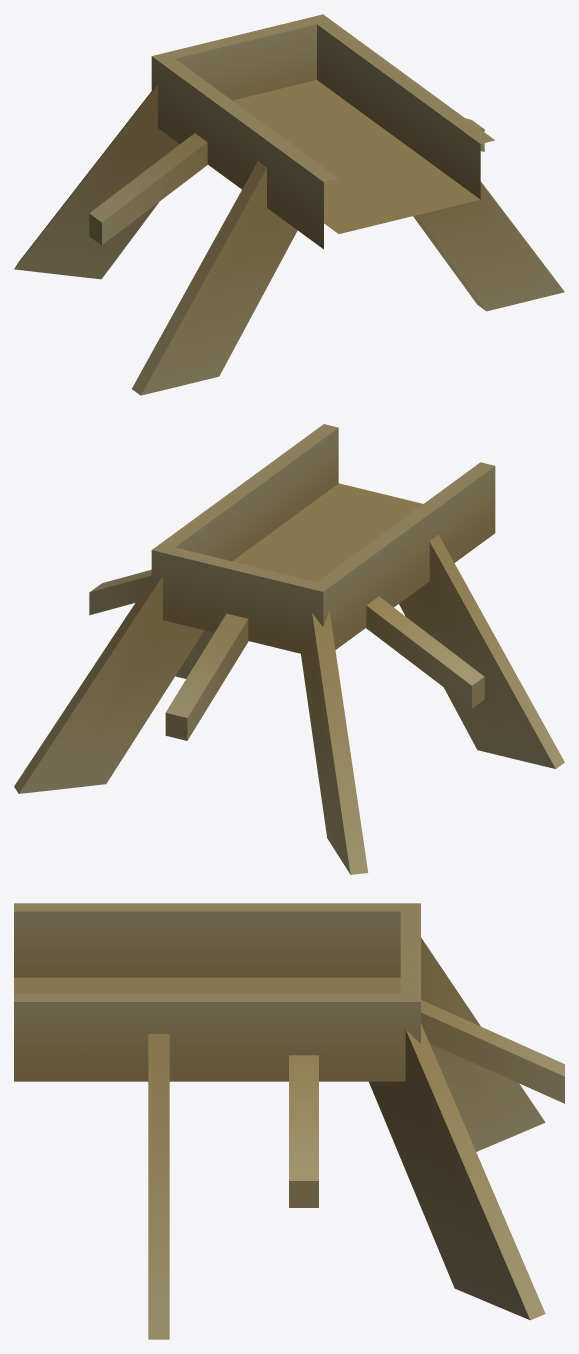
The model's file is aquaduct_piped1.glb.
3 renders of one model, top to bottom at view 1: azimuth 30°, elevation 25°; view 2: azimuth 150°, elevation 25°; view 3: azimuth 270°, elevation 25°, orthographic. The views are drawn at different scales.
Visible parts, largest first — view 1: AquaductPiped1; view 2: AquaductPiped1; view 3: AquaductPiped1.
Boxes of the visible parts, bbox=[...] form: AquaductPiped1: bbox=[14, 14, 564, 395]; AquaductPiped1: bbox=[14, 424, 564, 874]; AquaductPiped1: bbox=[14, 903, 564, 1339].
Size of the model in its own units: 2 by 1.01 by 1.9.
1 material, 1 textured.
